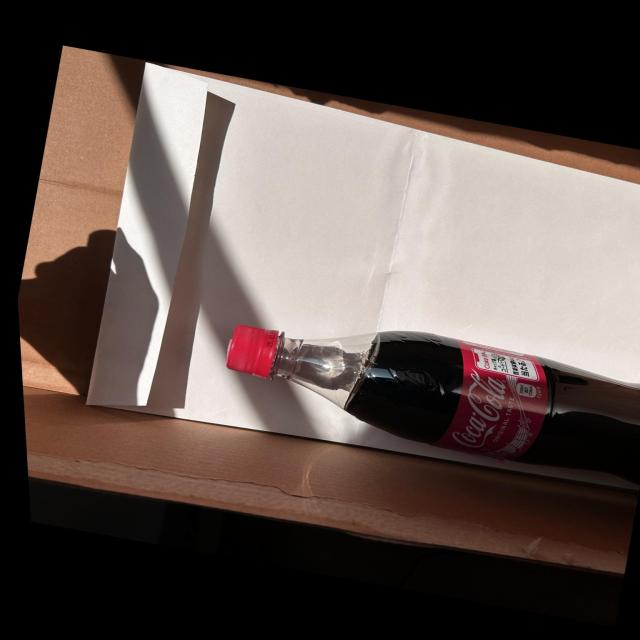high: (227, 325, 640, 482)
